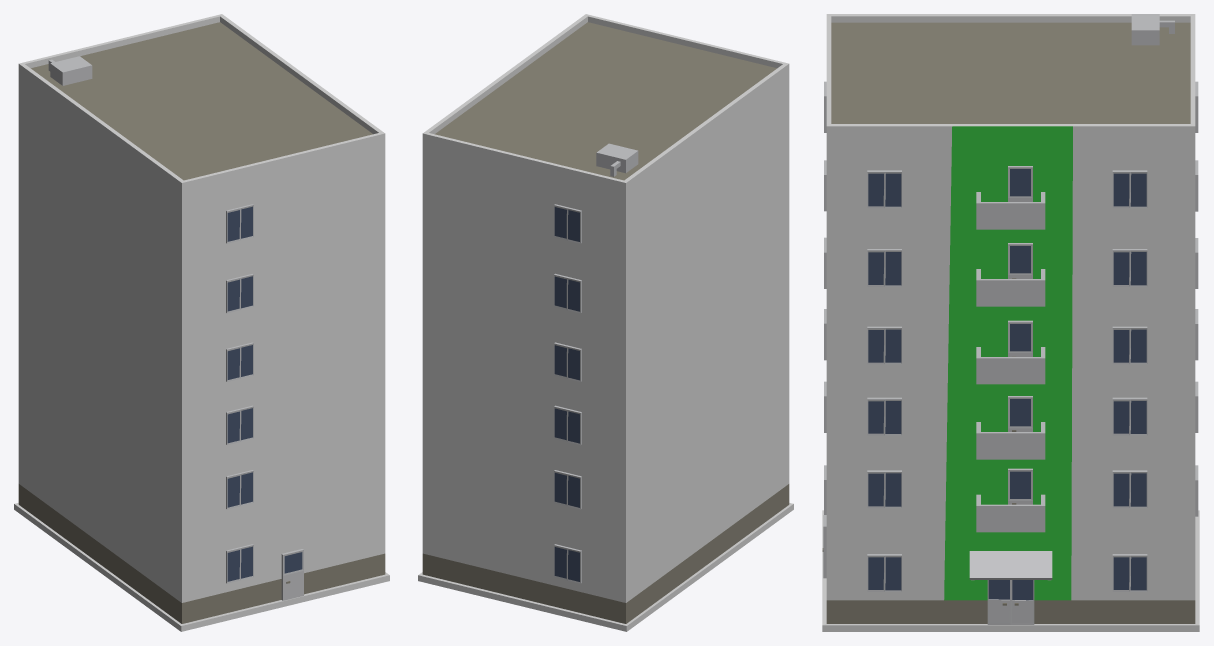
Rendered from apart2.gltf.
3 renders of one model, left to right at view 1: azimuth 30°, elevation 25°; view 2: azimuth 150°, elevation 25°; view 3: azimuth 270°, elevation 25°, orthographic. The views are drawn at different scales.
Visible parts, largest first — view 1: Cube.002; view 2: Cube.002; view 3: Cube.002.
Part boxes in pixels (x1=…): Cube.002: x1=14, y1=14, x2=389, y2=631; Cube.002: x1=418, y1=14, x2=793, y2=631; Cube.002: x1=822, y1=14, x2=1199, y2=631.
Size of the model in its own units: 1.77 by 3.28 by 2.19.
